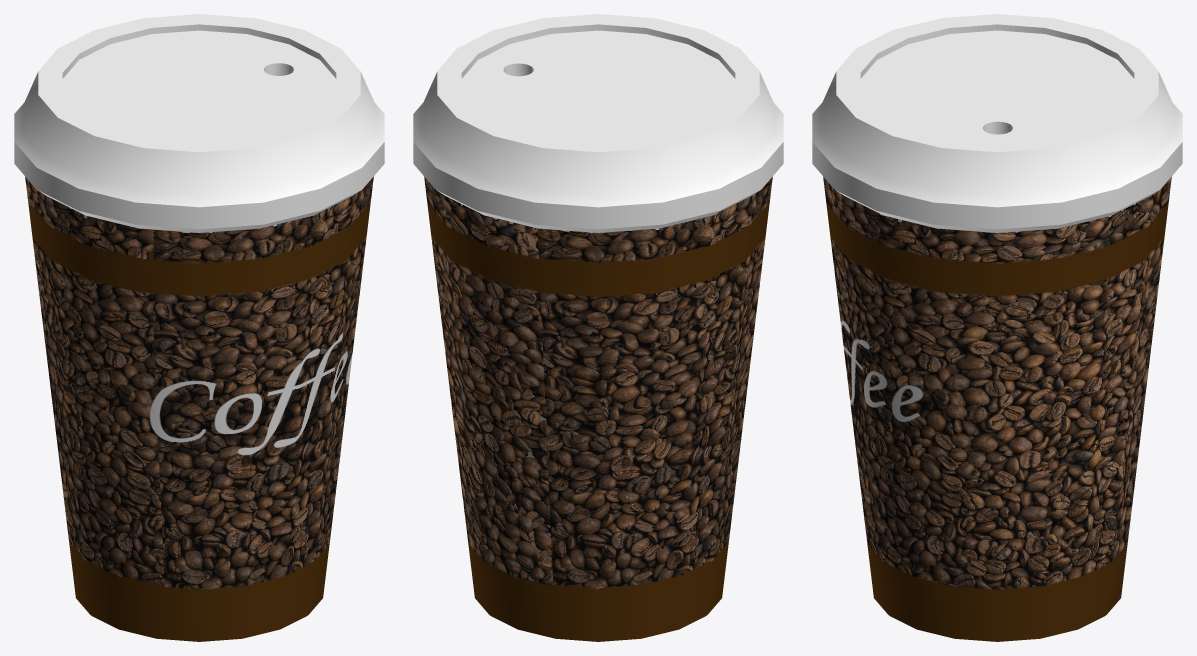
The model's file is Coffee.FBX.
3 views of the same model, side by side, from view 1: azimuth 30°, elevation 25°; view 2: azimuth 150°, elevation 25°; view 3: azimuth 270°, elevation 25° (orthographic).
Parts seen in each view (by area): view 1: Coffee; view 2: Coffee; view 3: Coffee.
Part boxes in pixels (bbox=[...]): Coffee: bbox=[14, 14, 384, 641]; Coffee: bbox=[413, 14, 783, 641]; Coffee: bbox=[812, 14, 1182, 641].
Size of the model in its own units: 8.19 by 12.16 by 8.07.
1 material, 1 textured.
